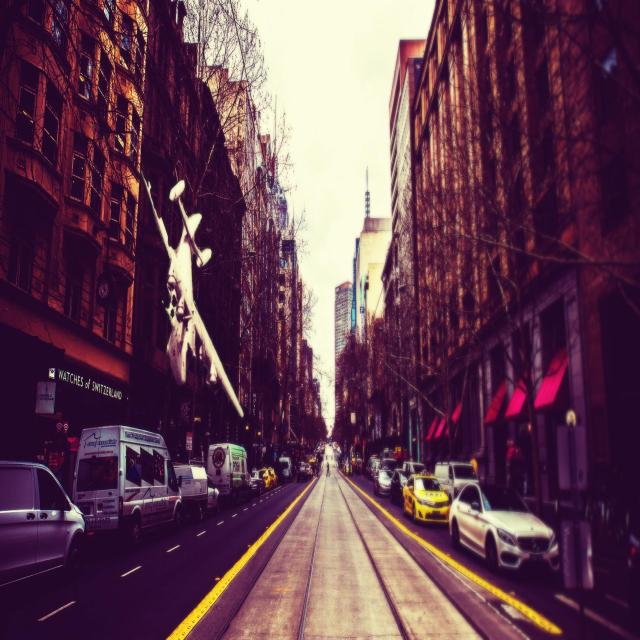airplane: (140, 170, 244, 418)
